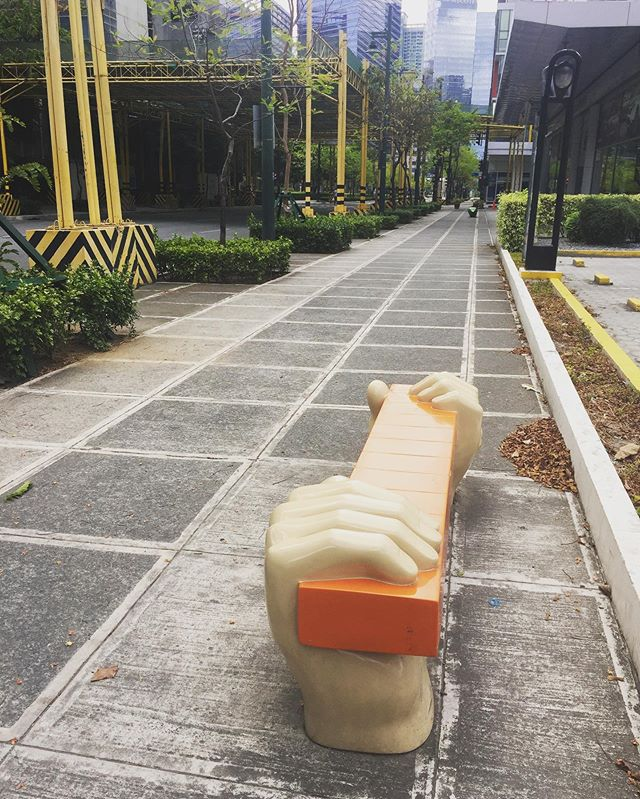bench: (303, 357, 501, 799)
building: (139, 7, 295, 72), (303, 1, 405, 94), (414, 1, 489, 99)
sidewalk: (1, 208, 606, 799)
